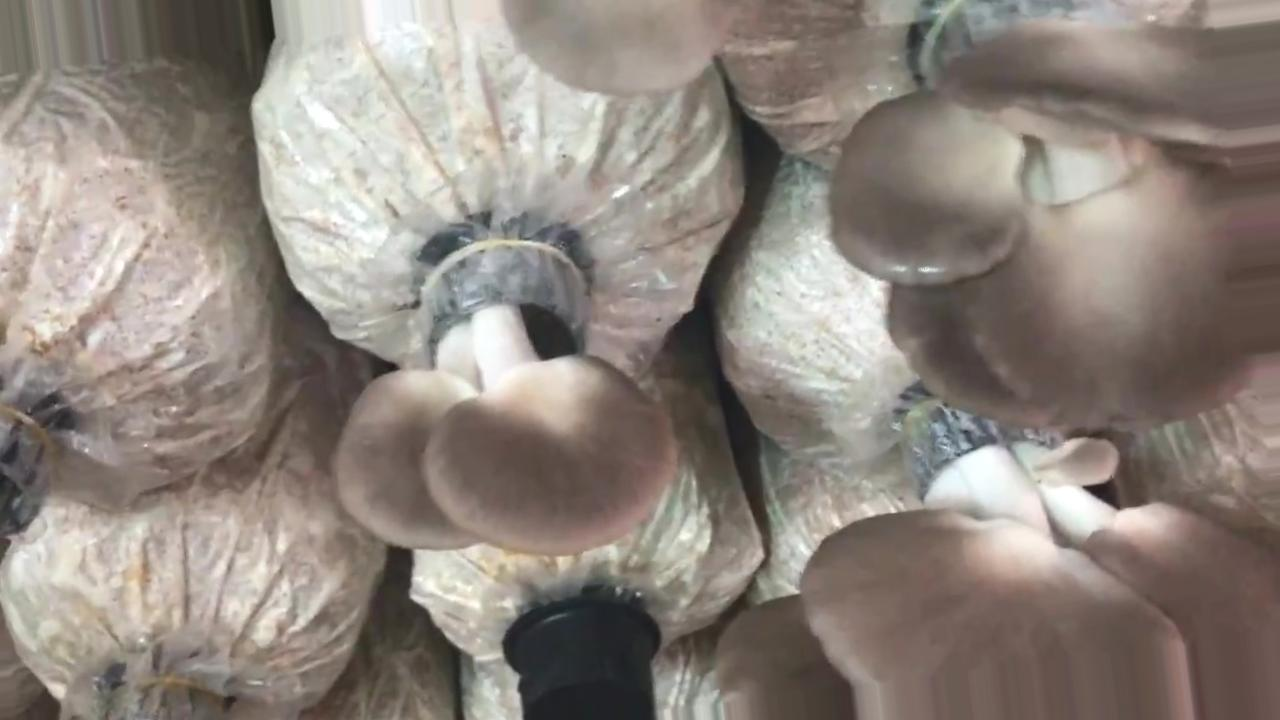nam: (832, 1, 1277, 431), (727, 399, 1280, 719), (343, 237, 673, 556), (499, 1, 736, 93)
